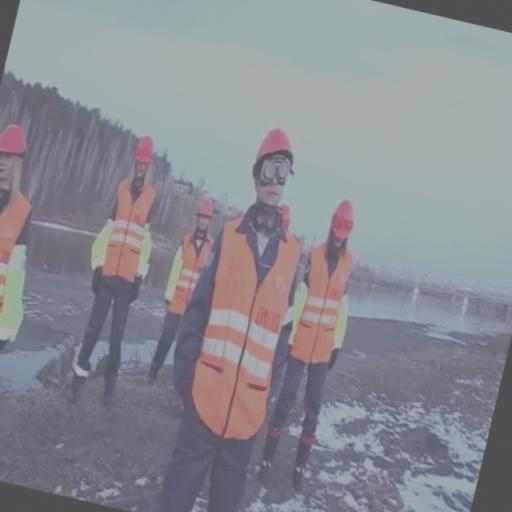Person: (147, 120, 321, 512), (71, 120, 181, 404), (295, 182, 369, 500), (0, 100, 51, 392)
boots: (98, 364, 128, 403), (257, 454, 287, 492), (70, 341, 100, 379), (290, 457, 313, 500)
gloves: (87, 266, 107, 294), (281, 334, 301, 362), (328, 342, 348, 370), (131, 279, 148, 298), (161, 297, 172, 309)
goggles: (250, 159, 293, 187)
helmet: (322, 198, 373, 240), (194, 180, 245, 222), (250, 124, 300, 166), (129, 126, 162, 168), (0, 115, 29, 156)
vest: (190, 214, 290, 435), (290, 240, 357, 371), (100, 168, 160, 285), (167, 218, 222, 322), (0, 178, 31, 332)
